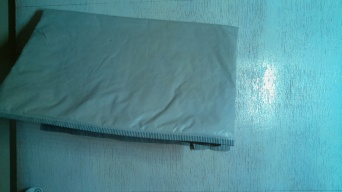a: (10, 8, 241, 154)
